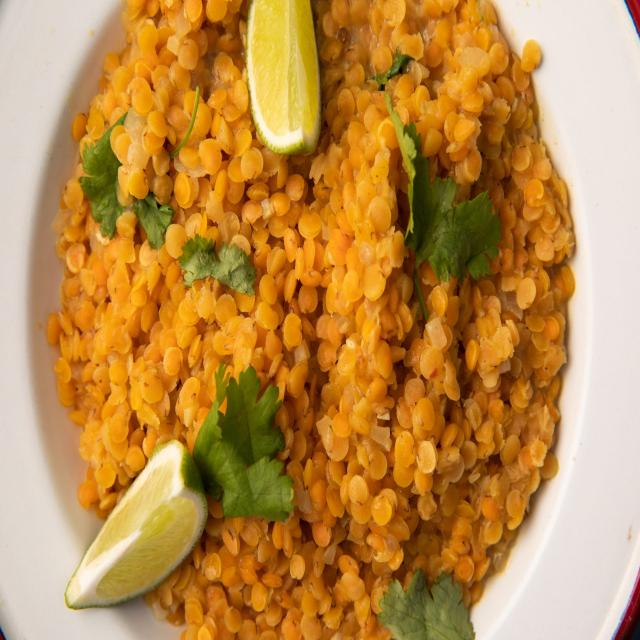lentejas: (40, 1, 570, 628)
